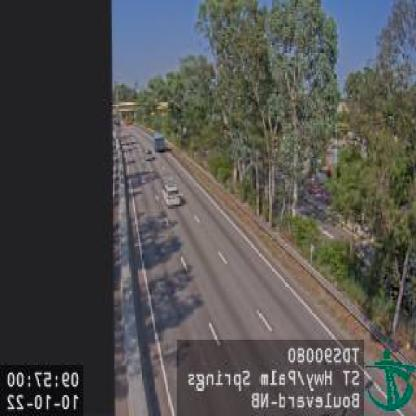Car: (162, 182, 180, 206), (154, 134, 166, 154), (144, 149, 153, 158)
